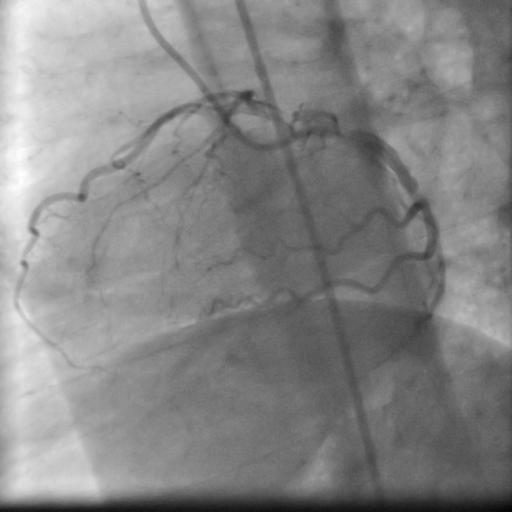Stenosis: (406, 187, 425, 202)
